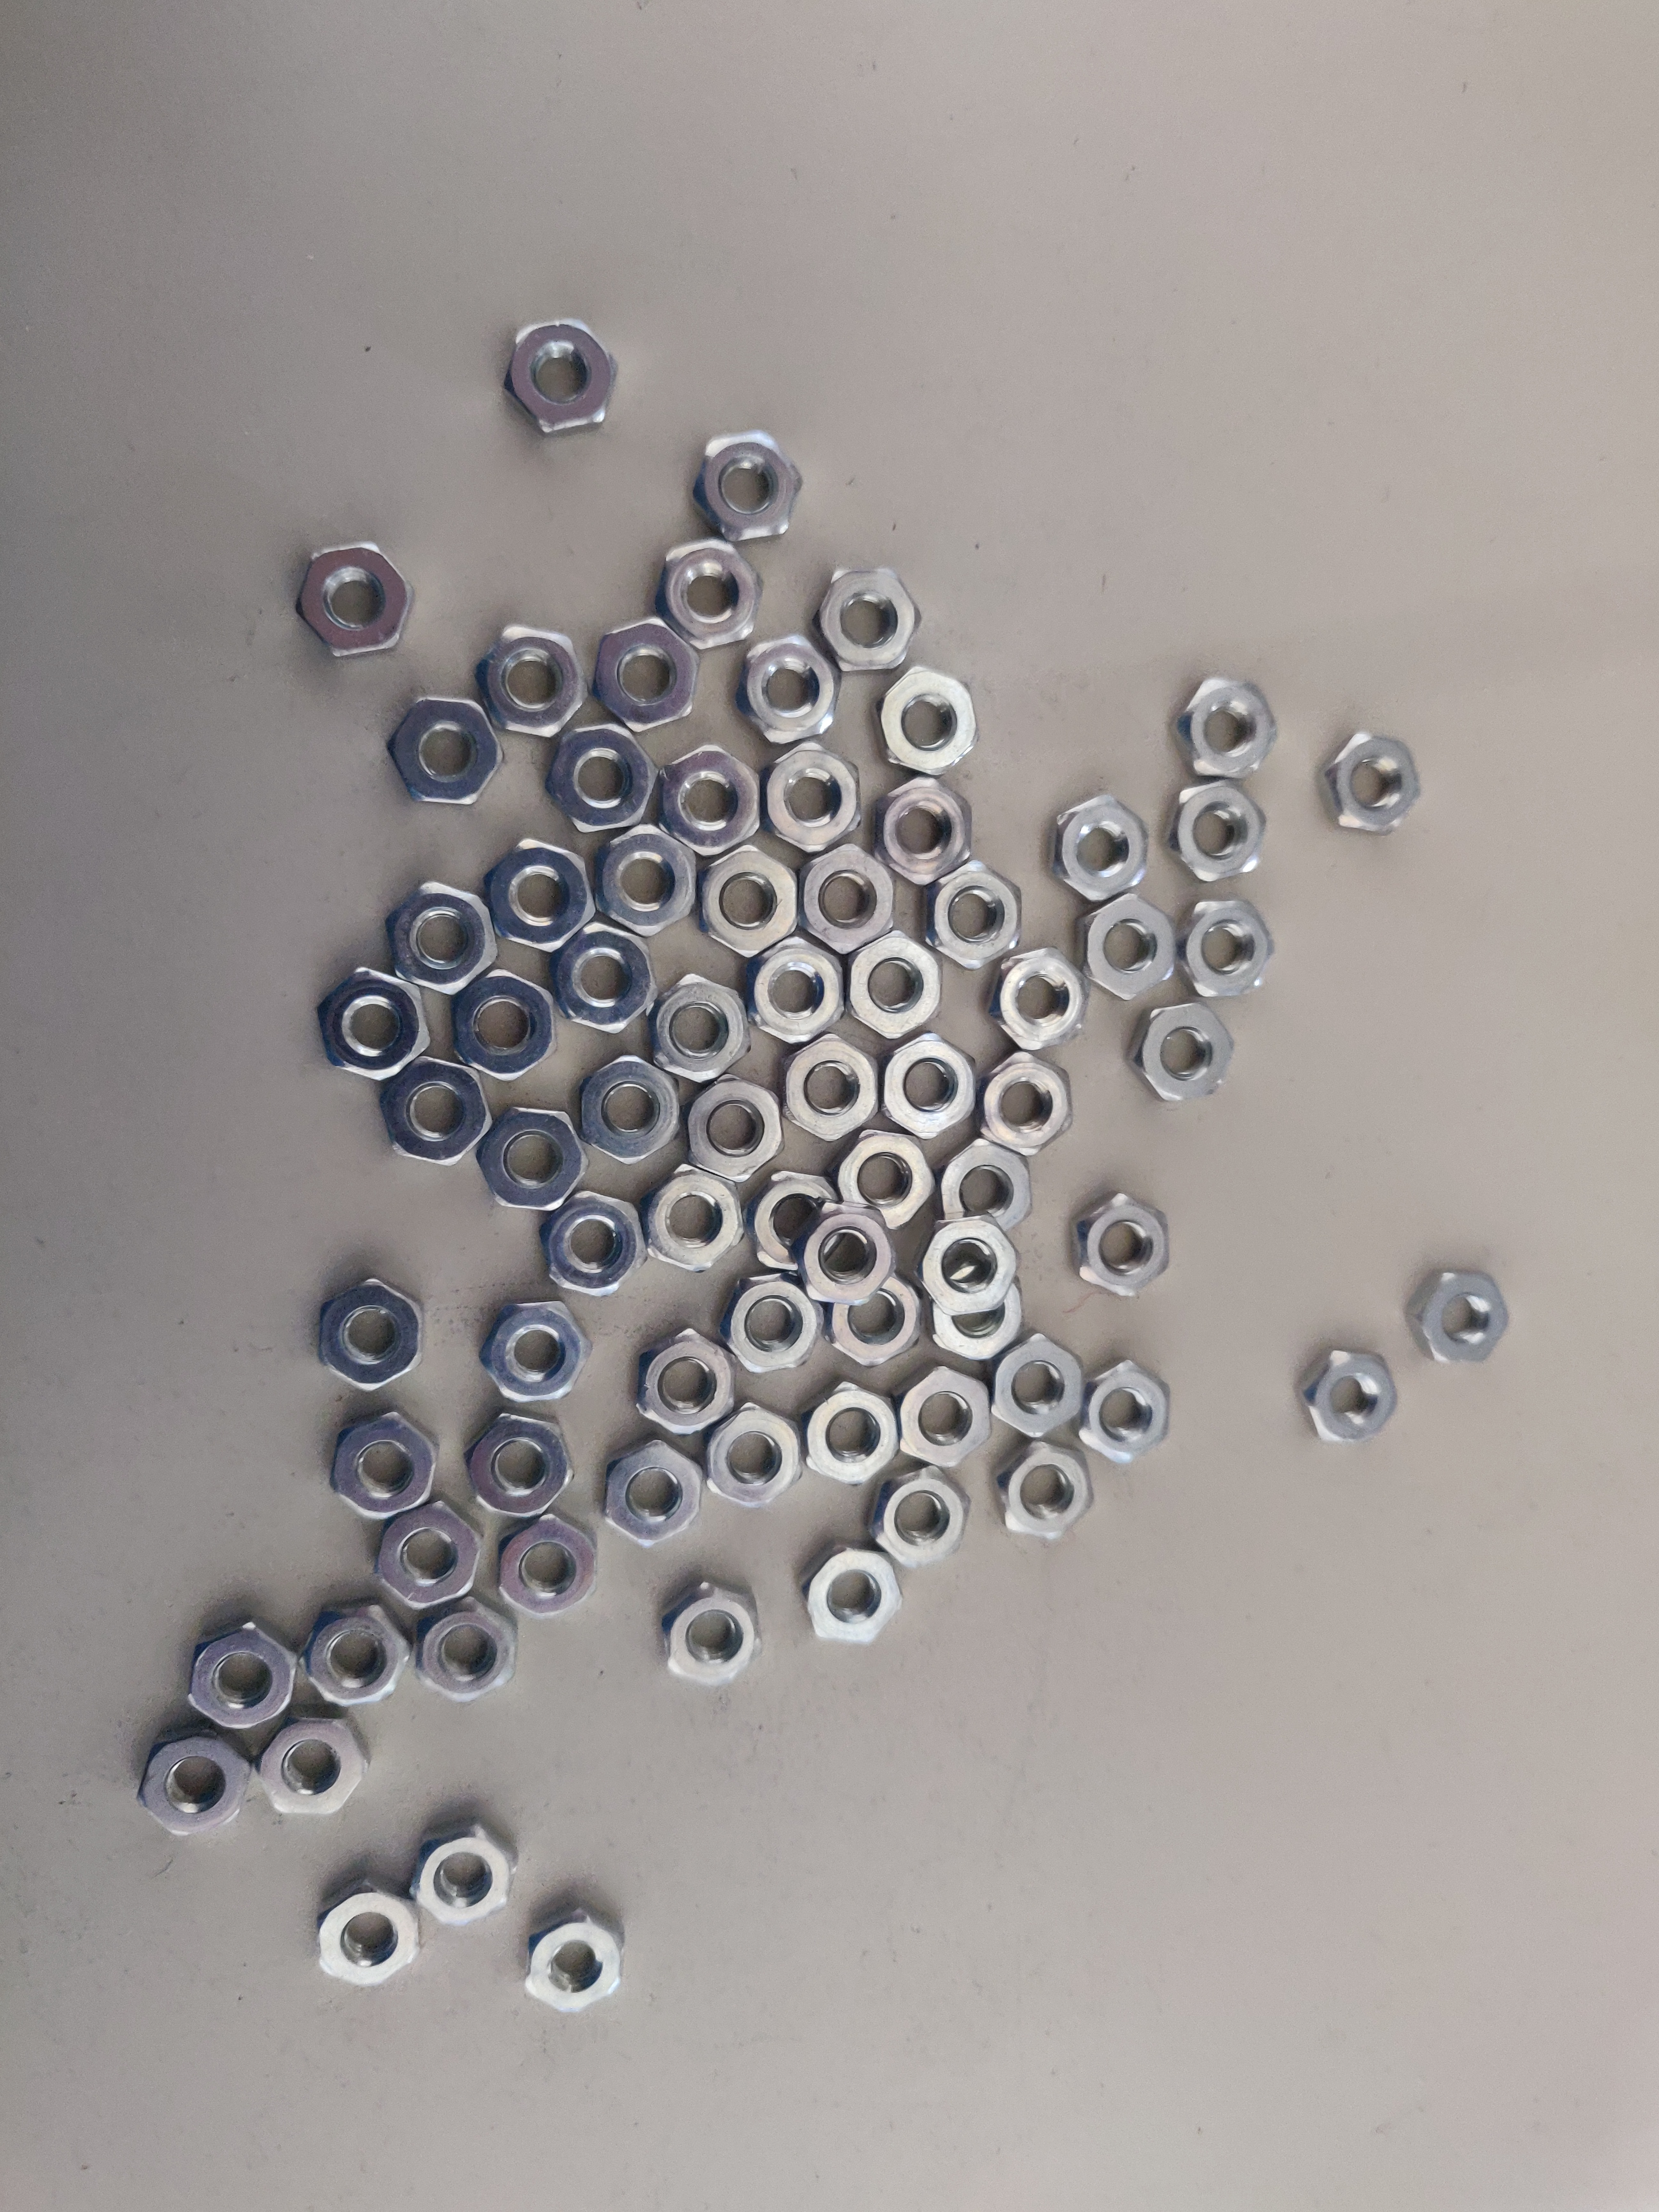nut: (497, 317, 620, 441), (380, 697, 507, 812), (579, 1036, 688, 1167), (288, 536, 408, 653), (312, 965, 429, 1085), (685, 430, 802, 547), (308, 1277, 429, 1390), (1166, 880, 1276, 1003), (552, 913, 659, 1040), (490, 831, 603, 948), (758, 738, 871, 855), (518, 1900, 627, 2020), (458, 1407, 568, 1527), (645, 965, 748, 1092), (974, 1036, 1073, 1167), (439, 968, 552, 1082), (655, 742, 765, 859), (479, 1301, 589, 1418), (305, 1602, 411, 1723), (476, 1099, 582, 1219), (716, 1273, 823, 1393), (373, 1507, 483, 1620), (376, 1057, 486, 1170), (469, 618, 575, 735), (798, 1534, 904, 1651), (631, 1329, 737, 1446), (139, 1730, 242, 1850), (599, 1432, 702, 1552), (922, 1249, 1032, 1360), (1042, 794, 1148, 907), (322, 1411, 436, 1517), (308, 1892, 425, 1994), (376, 880, 493, 982), (1124, 1000, 1241, 1103), (692, 848, 802, 954), (185, 1616, 288, 1730), (880, 664, 979, 780), (599, 824, 699, 941), (674, 1078, 791, 1177), (880, 1028, 979, 1143), (997, 944, 1091, 1064), (809, 568, 915, 674), (408, 1822, 511, 1932), (1066, 1191, 1169, 1301), (1166, 784, 1276, 887), (915, 1209, 1018, 1318), (1169, 678, 1269, 791), (833, 1270, 932, 1383), (737, 639, 840, 745), (260, 1712, 366, 1815), (702, 1404, 805, 1510), (744, 1170, 847, 1277), (1319, 728, 1419, 838), (659, 540, 755, 653), (1298, 1346, 1399, 1453), (871, 784, 979, 883), (1412, 1270, 1509, 1379), (781, 1036, 887, 1136), (599, 618, 695, 728), (802, 841, 897, 951), (425, 1599, 518, 1712), (1082, 890, 1180, 996), (497, 1517, 596, 1620), (667, 1592, 762, 1698), (997, 1439, 1087, 1548), (997, 1339, 1087, 1449), (904, 1360, 993, 1472), (847, 937, 946, 1036), (805, 1383, 901, 1486), (542, 1195, 645, 1291), (648, 1167, 741, 1273), (809, 1198, 894, 1312), (1087, 1360, 1173, 1472), (875, 1468, 964, 1573), (755, 937, 836, 1047)
